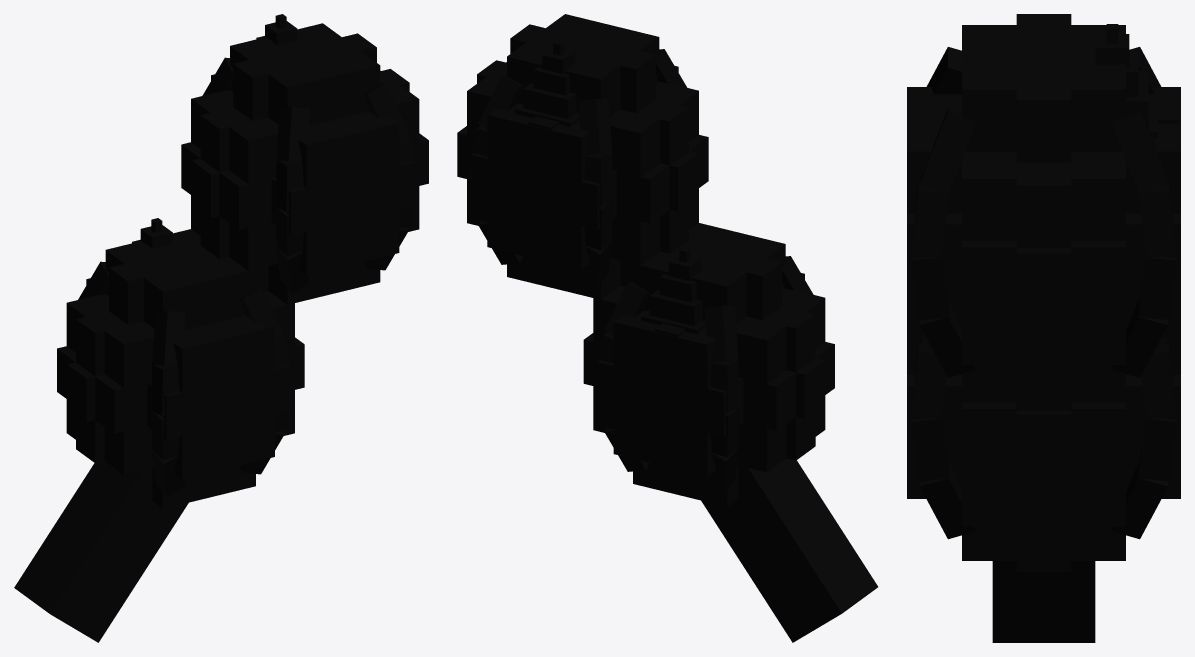
The model's file is resonance_organ.obj.
3 renders of one model, left to right at view 1: azimuth 30°, elevation 25°; view 2: azimuth 150°, elevation 25°; view 3: azimuth 270°, elevation 25°, orthographic. The views are drawn at different scales.
Bounding box in the file's own units: 0.6376 × 0.875 × 0.2807.
